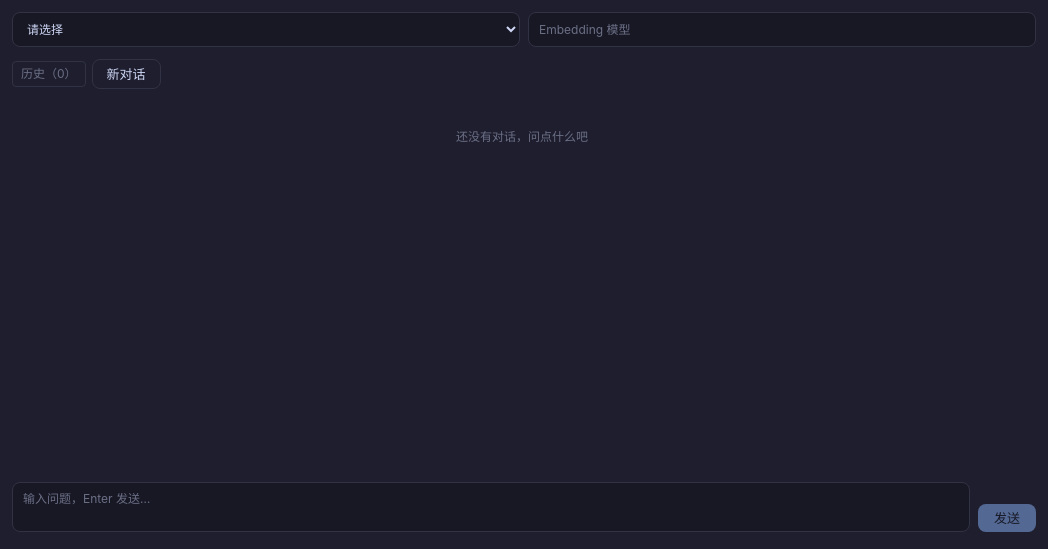
Test: §332 A6① 问答屏历史搜索：前一个词那一发的迟到结果不许换掉当前结果 › 搜过一个只命中 1 条的词再关闭面板 ⇒ 按钮报整库那 3 条，而关闭那一趟确实重拉
Click the button "历史（0）" at (49, 74), box x1=12 y1=61 x2=86 y2=87
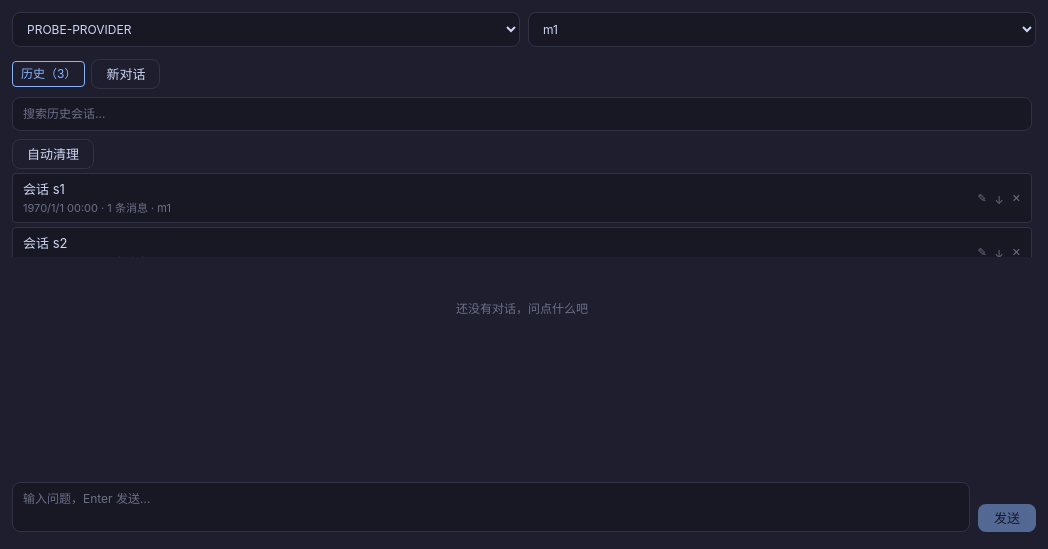
Now the field with placeholder "搜索历史会话…" is shown
Type "甲" into the field with placeholder "搜索历史会话…" at (522, 114), box x1=12 y1=97 x2=1032 y2=131
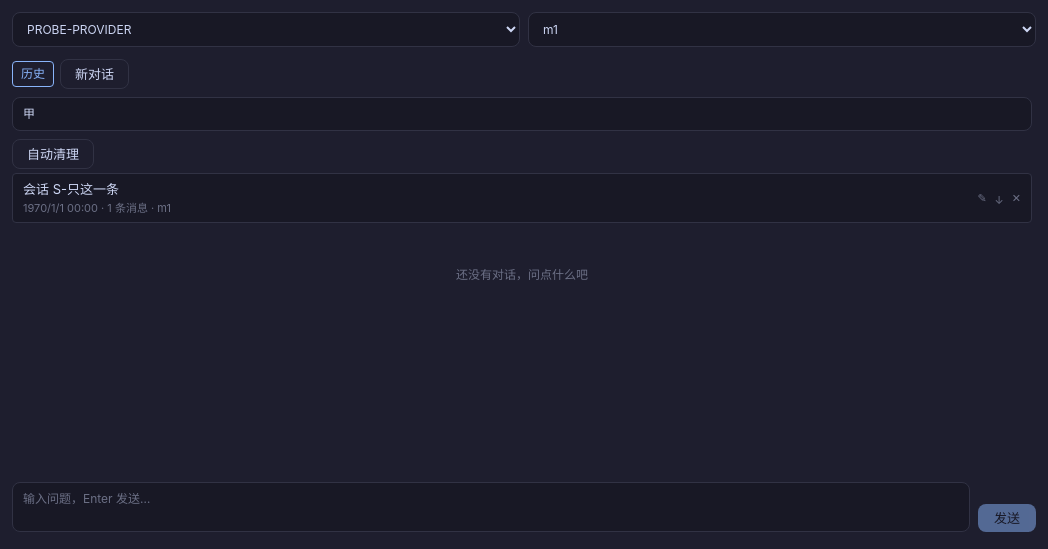
Click the button "历史" at (33, 74), box x1=12 y1=61 x2=54 y2=87
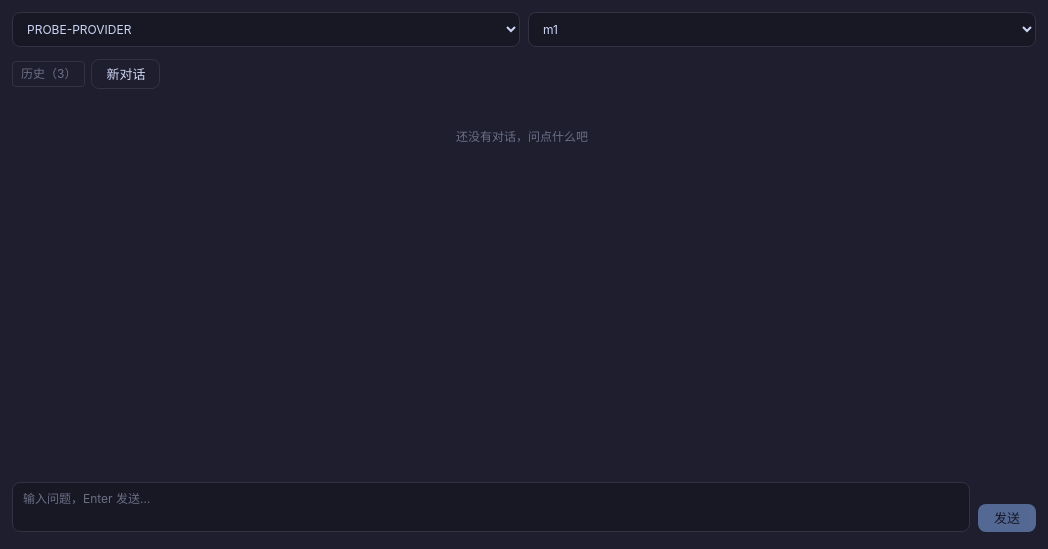
Click the button "历史（3）" at (49, 74), box x1=12 y1=61 x2=85 y2=87
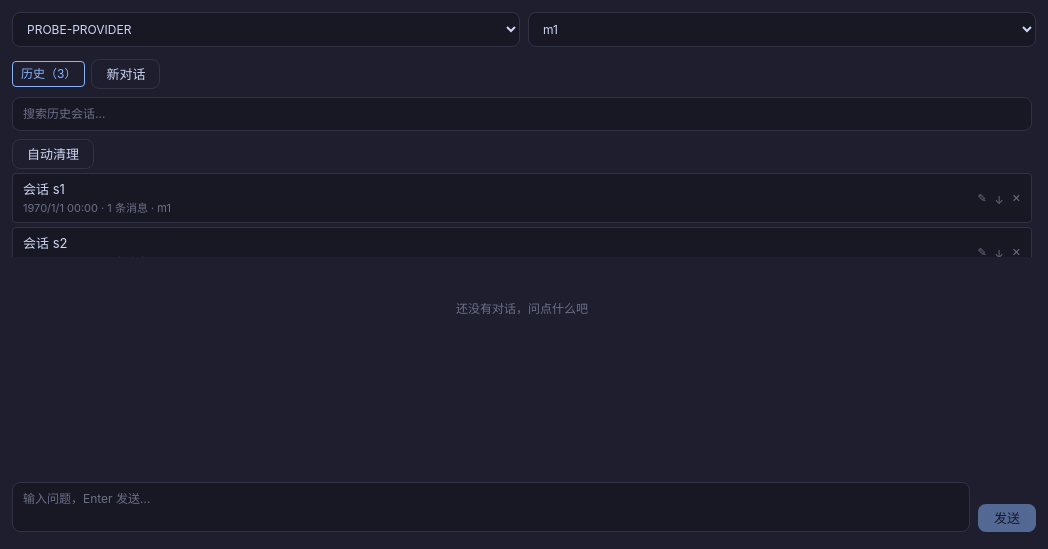
Expected: the text "会话 S-只这一条" is not shown
Now the text "会话 s1" is shown, box x1=23 y1=181 x2=65 y2=197
